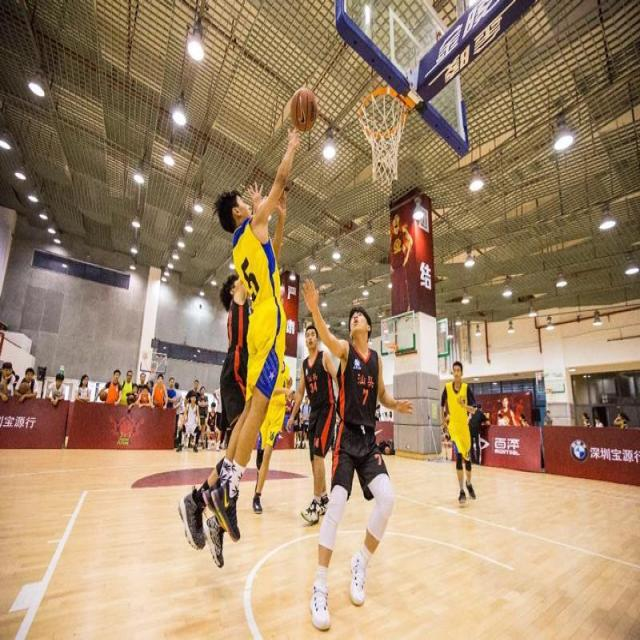basketball: (290, 86, 318, 134)
hoop: (358, 85, 407, 188)
